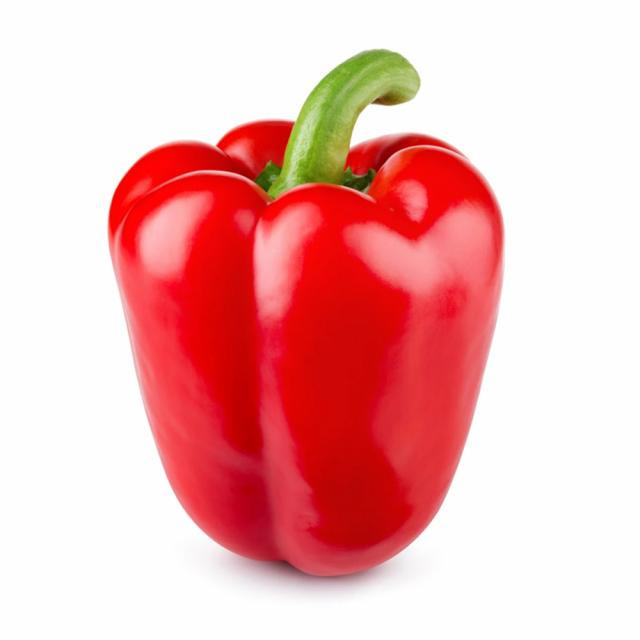bell pepper: (92, 44, 550, 586)
